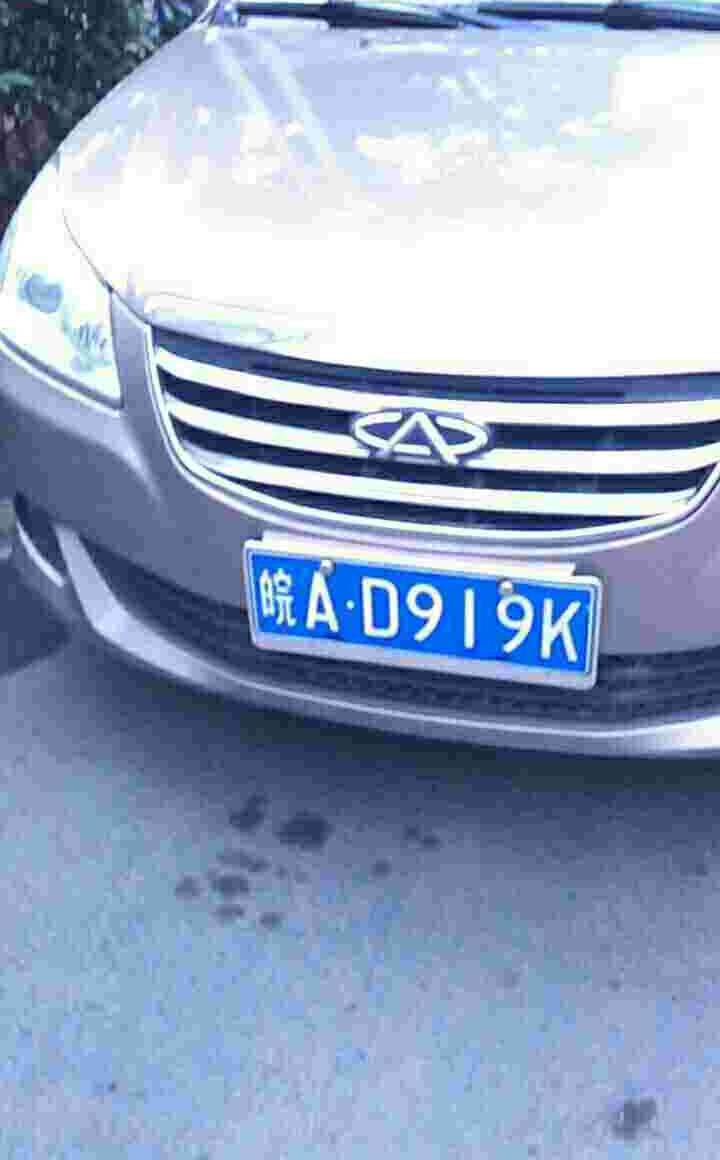license_plate: (242, 557, 616, 659)
